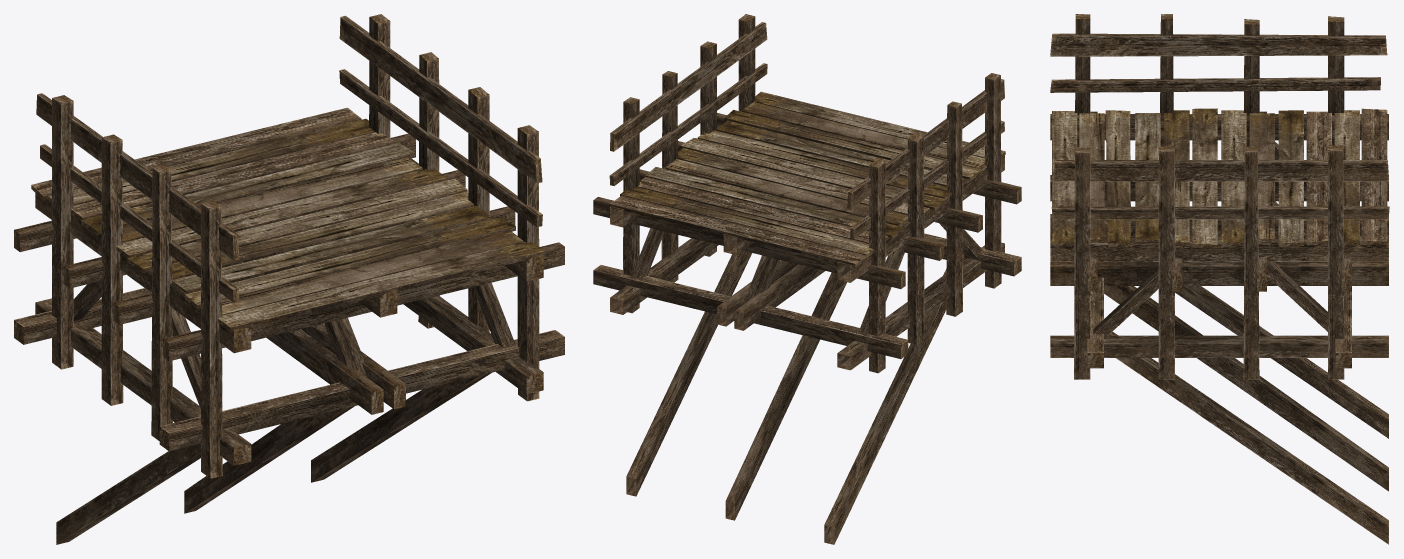
The model's file is WoodBridgeAbutmentNarrow.dae.
The picture shows the model from 3 angles, left to right: view 1: azimuth 30°, elevation 25°; view 2: azimuth 150°, elevation 25°; view 3: azimuth 270°, elevation 25°; orthographic projection. The views are drawn at different scales.
Visible parts, largest first — view 1: WoodBridgeAbutment; view 2: WoodBridgeAbutment; view 3: WoodBridgeAbutment.
Boxes of the visible parts, bbox=[...] form: WoodBridgeAbutment: bbox=[14, 14, 564, 544]; WoodBridgeAbutment: bbox=[593, 14, 1021, 544]; WoodBridgeAbutment: bbox=[1050, 14, 1389, 544].
Size of what is drawn, in the model's own units: 4.6 by 5.31 by 4.01.
Materials: 1 (1 with a texture image).
